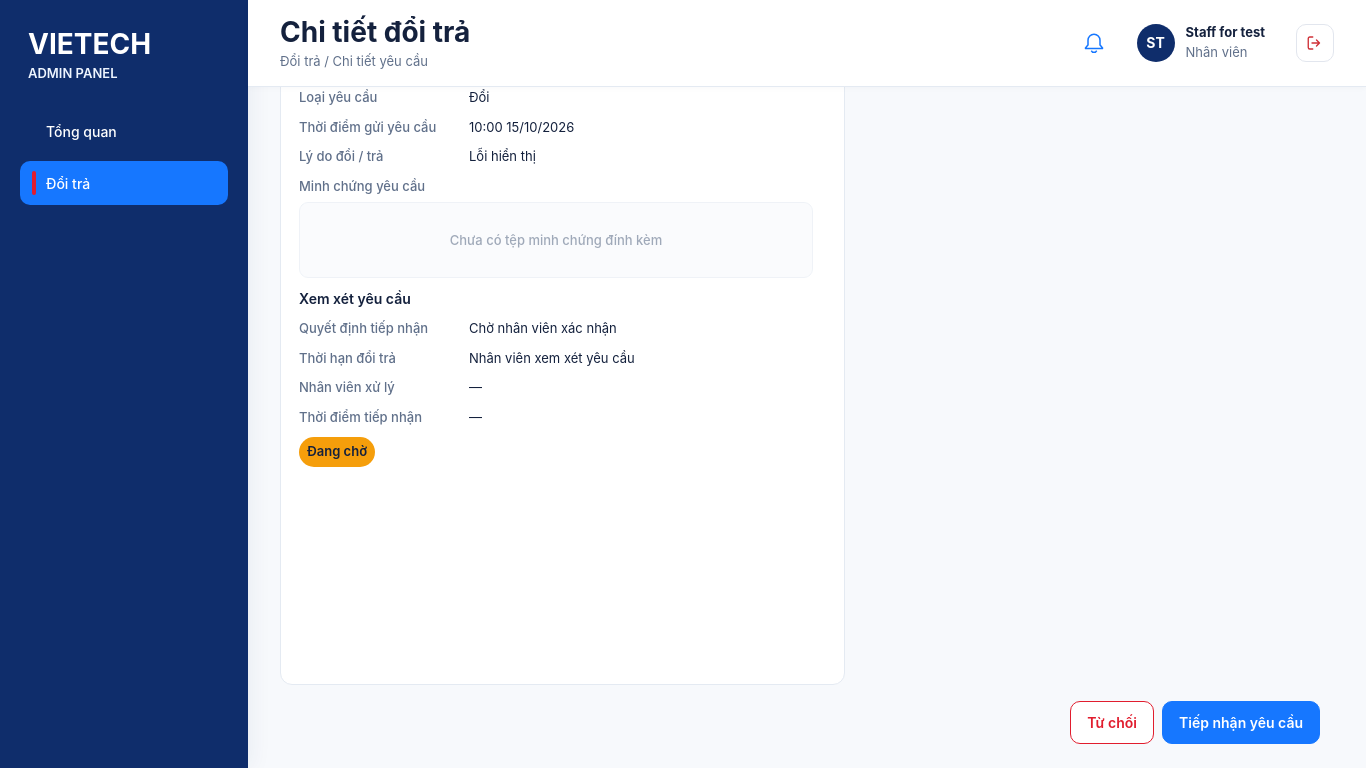
Scenario: rejection only sends a trimmed public reason and closes the request
(page scrolled)
Click the button "Từ chối" at (1112, 722), box top-left (1070, 701), bottom-right (1154, 744)
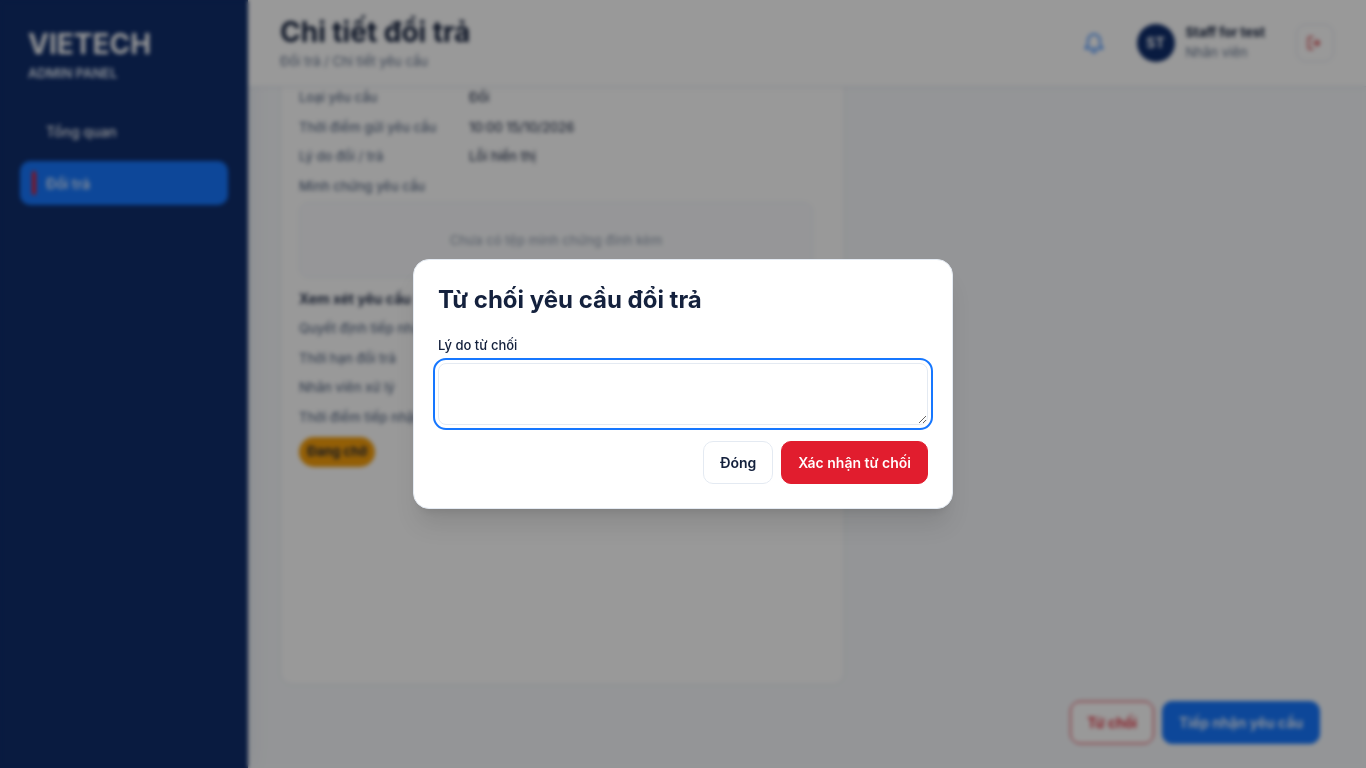
Click the button "Xác nhận từ chối" at (855, 463), box top-left (781, 441), bottom-right (928, 484)
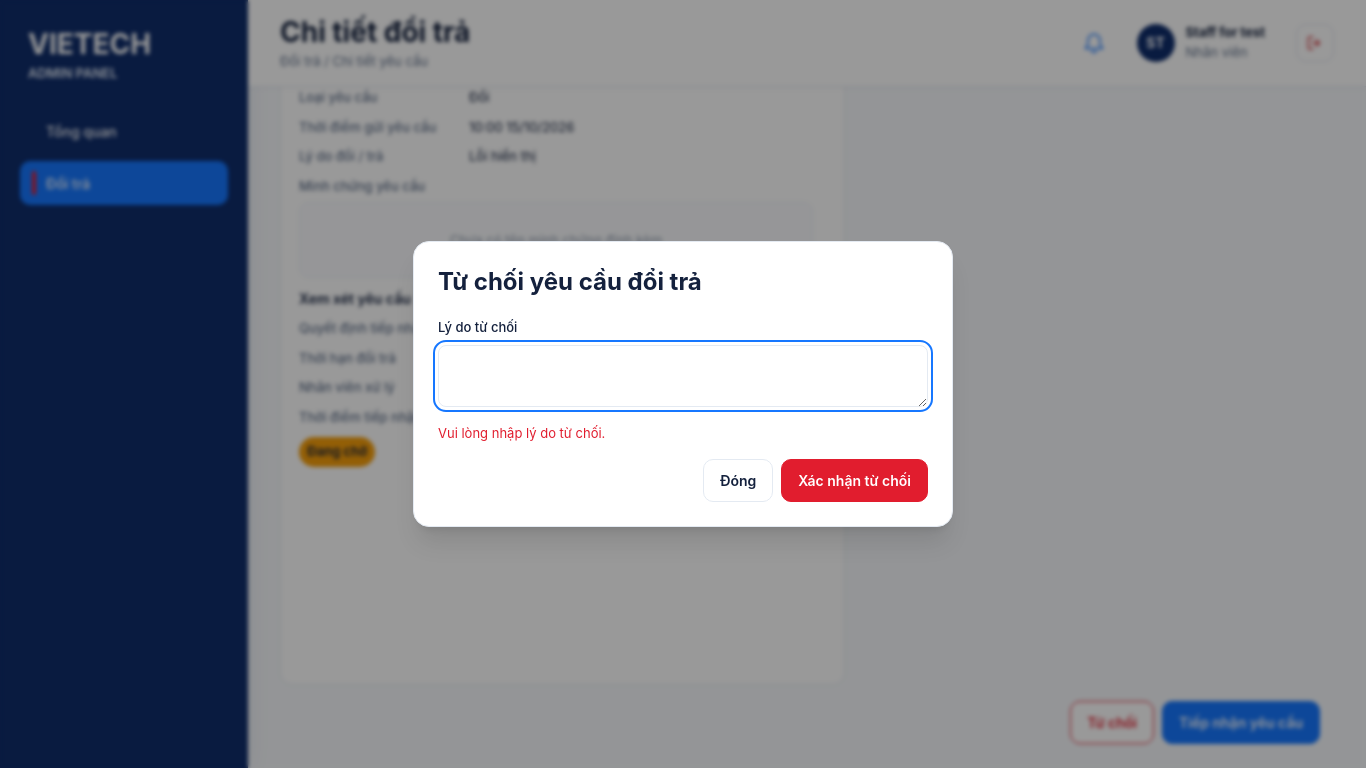
Type "  Sai sản phẩm  " into the text box labelled "Lý do từ chối" at (683, 377), box top-left (438, 346), bottom-right (928, 408)
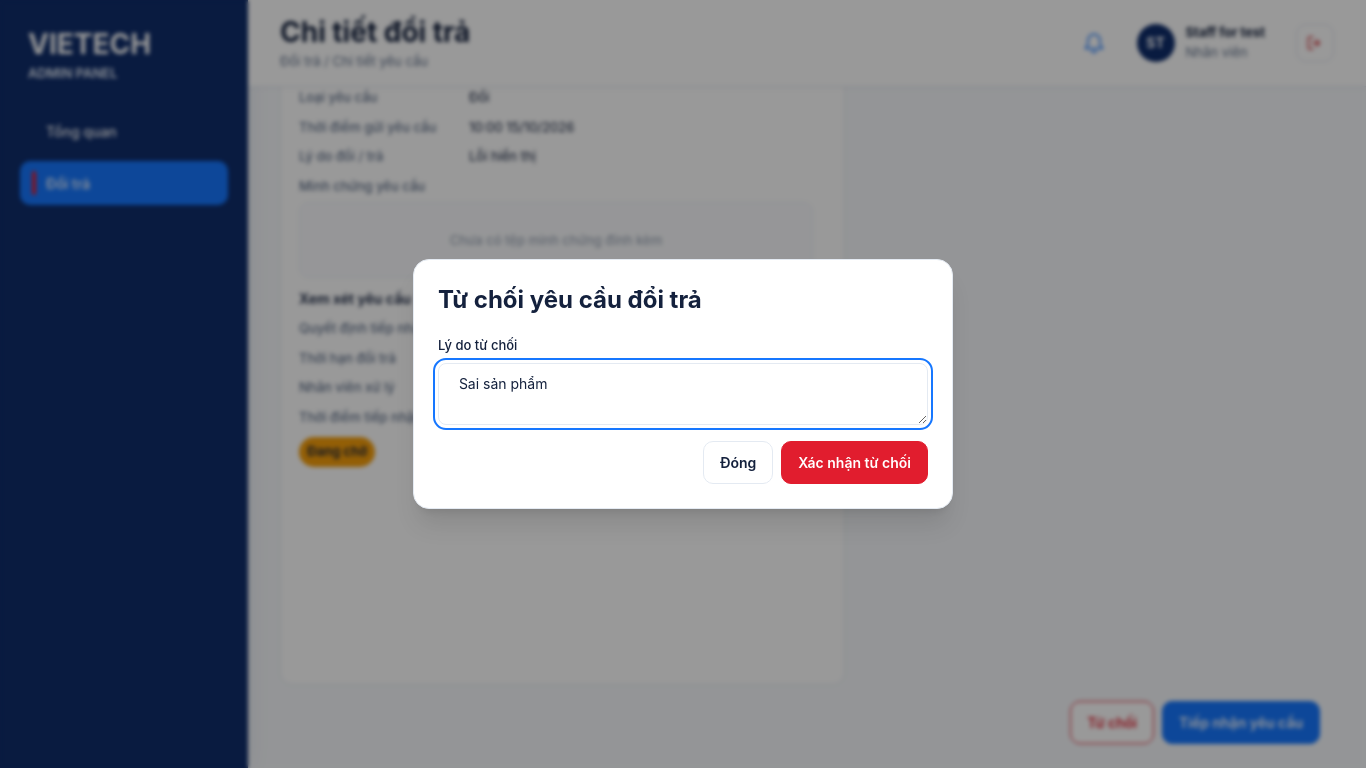
Click the button "Xác nhận từ chối" at (855, 463), box top-left (781, 441), bottom-right (928, 484)
(page scrolled)
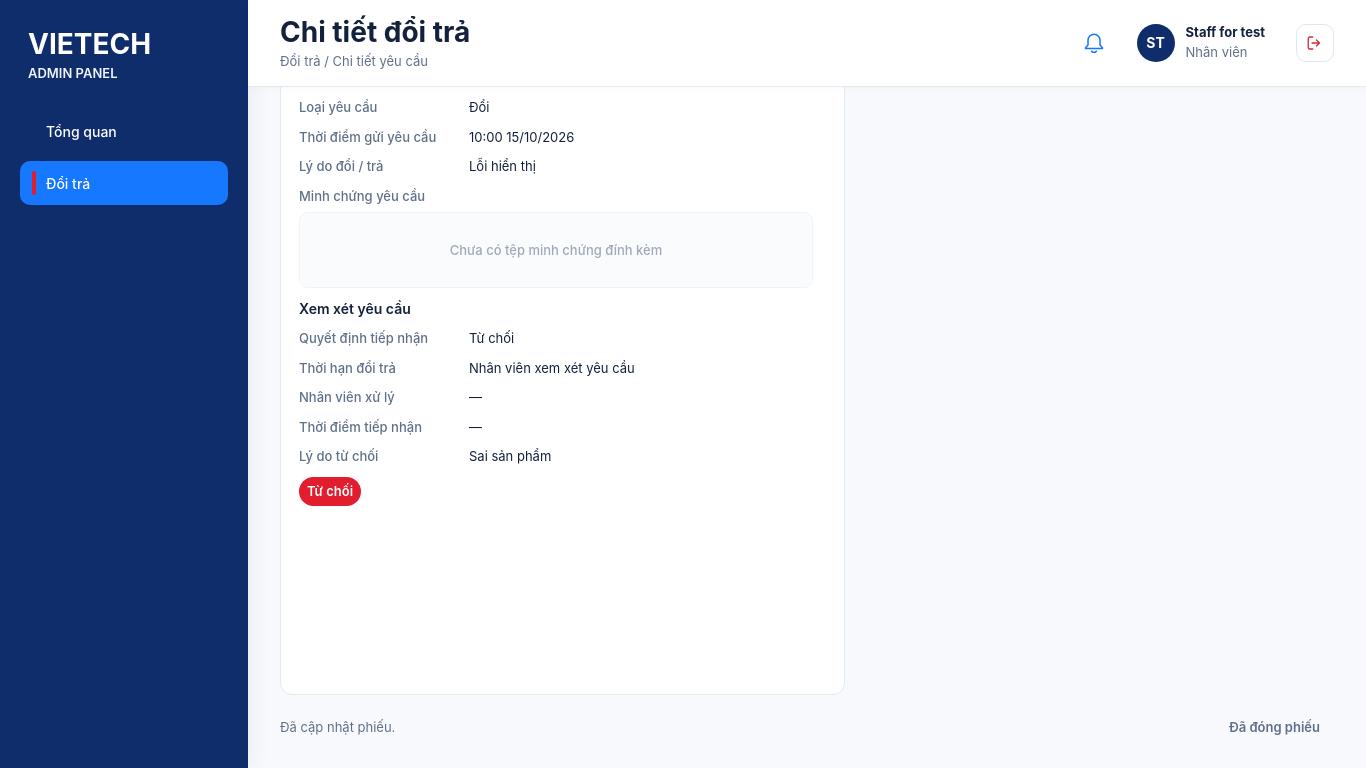
Check: the text "Đã đóng phiếu" is shown, box top-left (1229, 718), bottom-right (1320, 737)
Check: the text "Sai sản phẩm" is shown, box top-left (469, 448), bottom-right (551, 464)
Check: the dialog is gone
